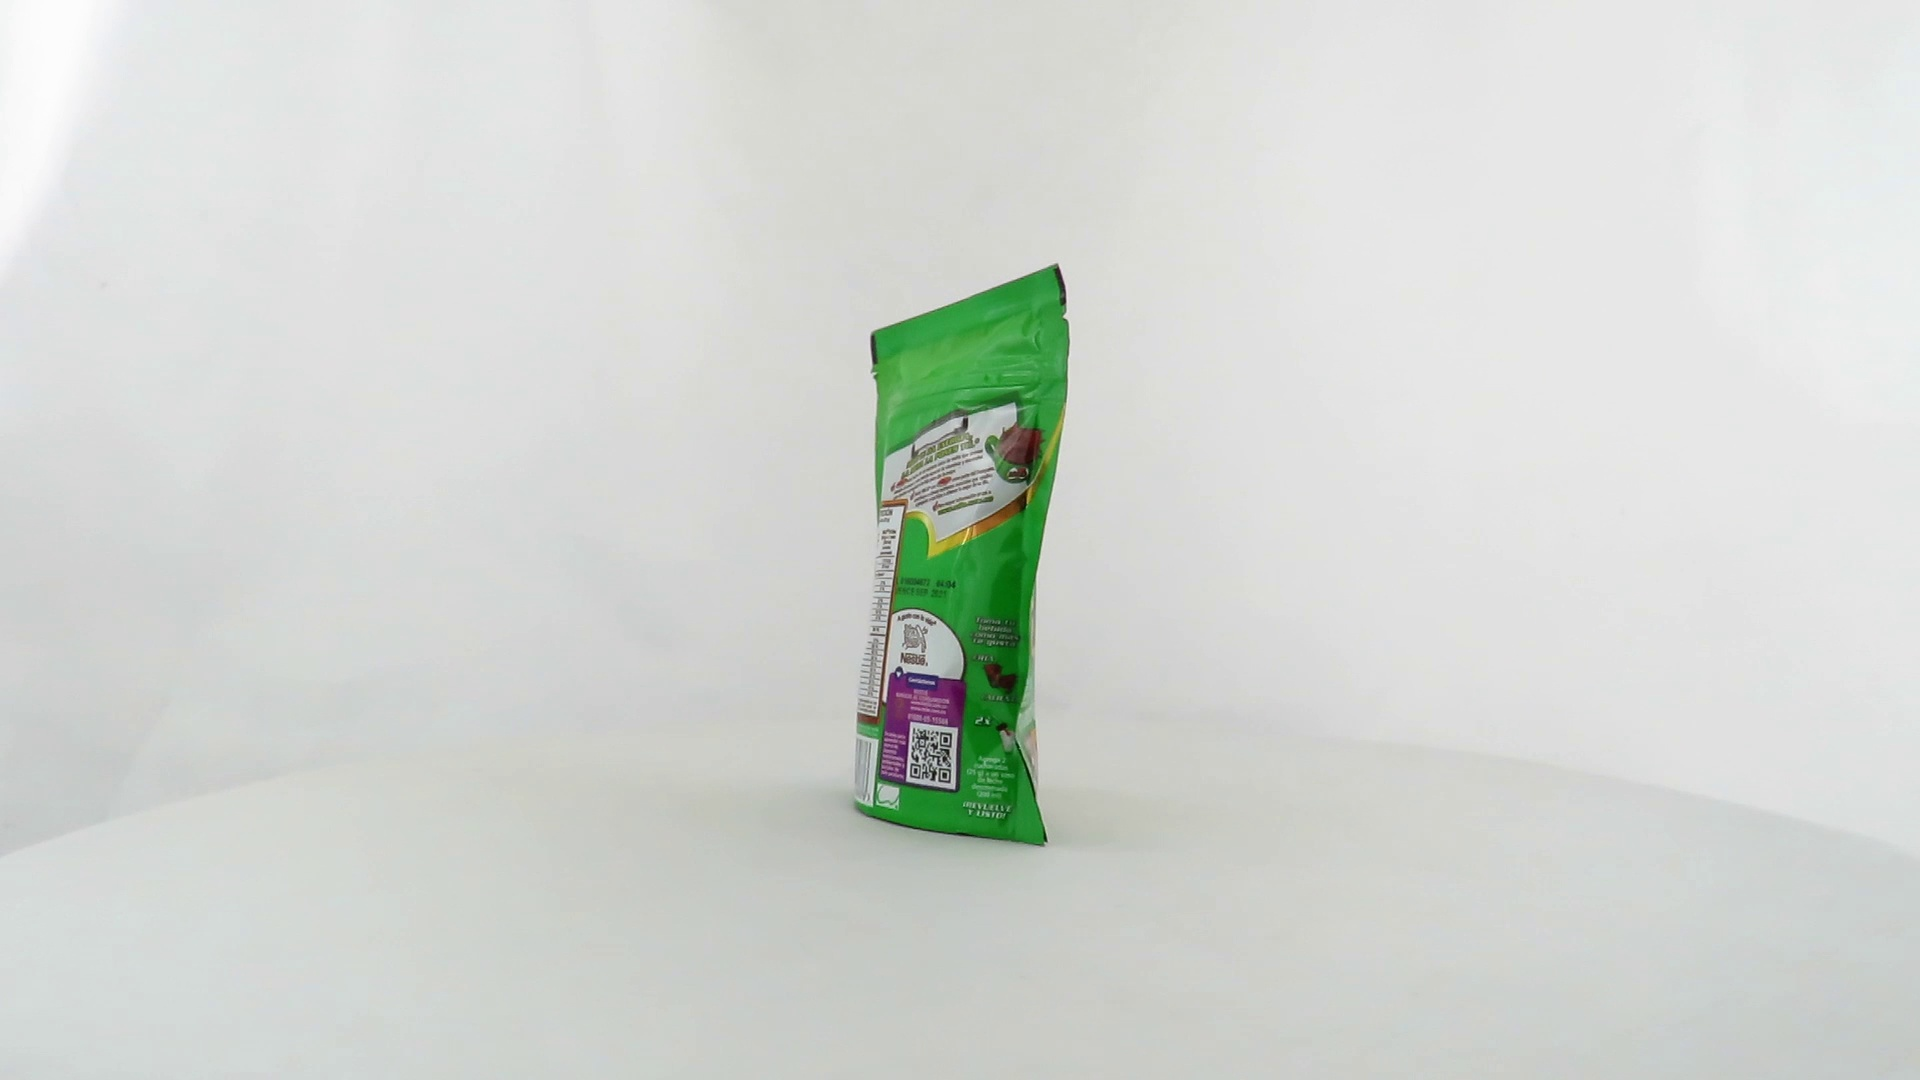COL0170203DYP10000: (837, 258, 1076, 853)
